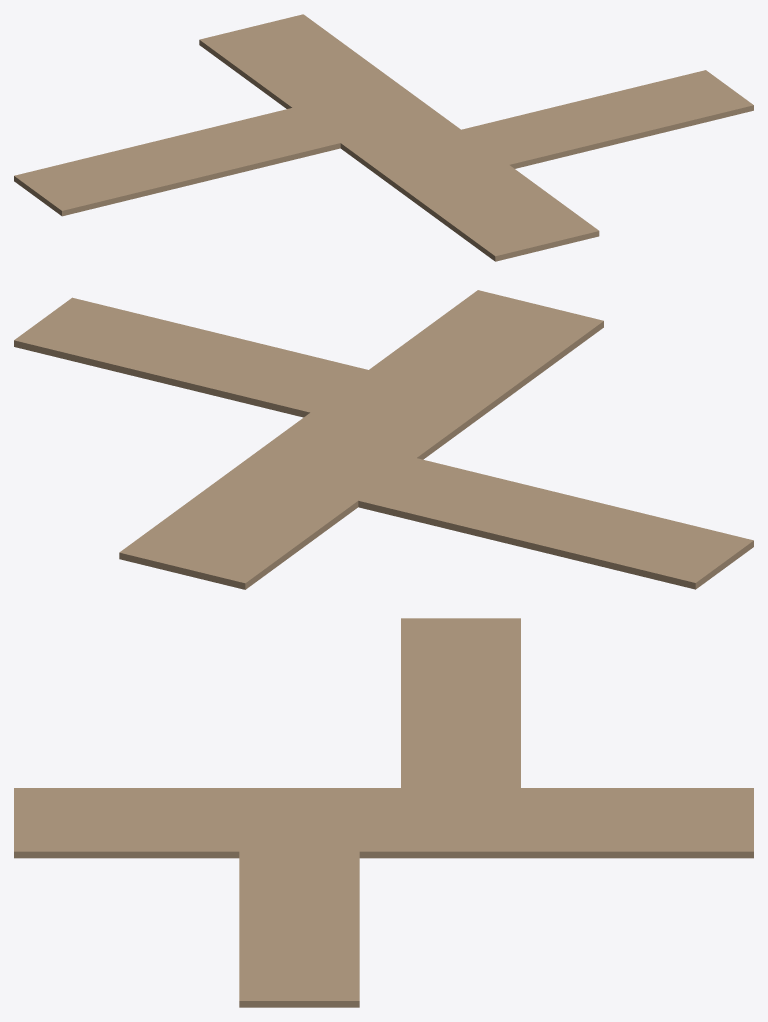
The model's file is pathway.glb.
3 views of the same model, one above another, from view 1: azimuth 30°, elevation 25°; view 2: azimuth 150°, elevation 25°; view 3: azimuth 270°, elevation 25° (orthographic). The views are drawn at different scales.
Parts seen in each view (by area): view 1: Mesh_Mesh_head_geo.001_lambert2SG.001; view 2: Mesh_Mesh_head_geo.001_lambert2SG.001; view 3: Mesh_Mesh_head_geo.001_lambert2SG.001.
Boxes of the visible parts, x1,y1,x2,y2 form: Mesh_Mesh_head_geo.001_lambert2SG.001: [14, 14, 753, 261]; Mesh_Mesh_head_geo.001_lambert2SG.001: [14, 290, 753, 589]; Mesh_Mesh_head_geo.001_lambert2SG.001: [14, 618, 753, 1007].
Size of the model in its own units: 0.241 by 0.002 by 0.197.
